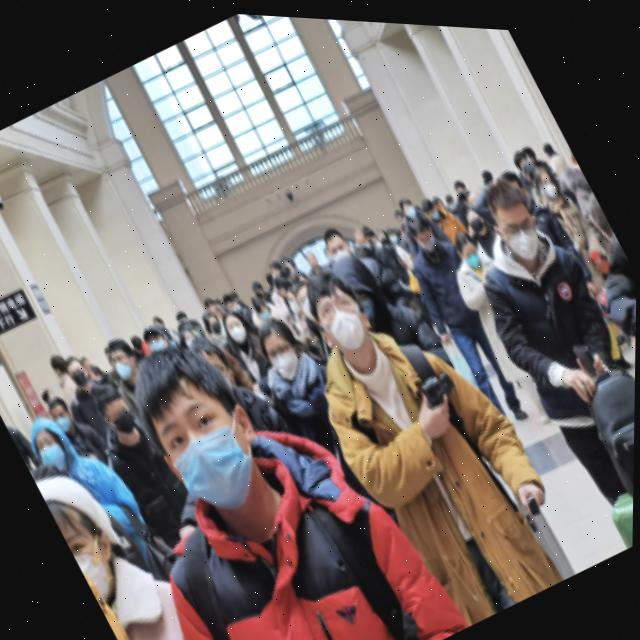Mask: (161, 403, 290, 532), (68, 523, 135, 606), (319, 296, 384, 360), (503, 217, 549, 264), (34, 433, 75, 479), (104, 397, 145, 442), (271, 342, 306, 378), (113, 349, 143, 383), (227, 317, 250, 342), (466, 245, 488, 268), (547, 177, 562, 194)
